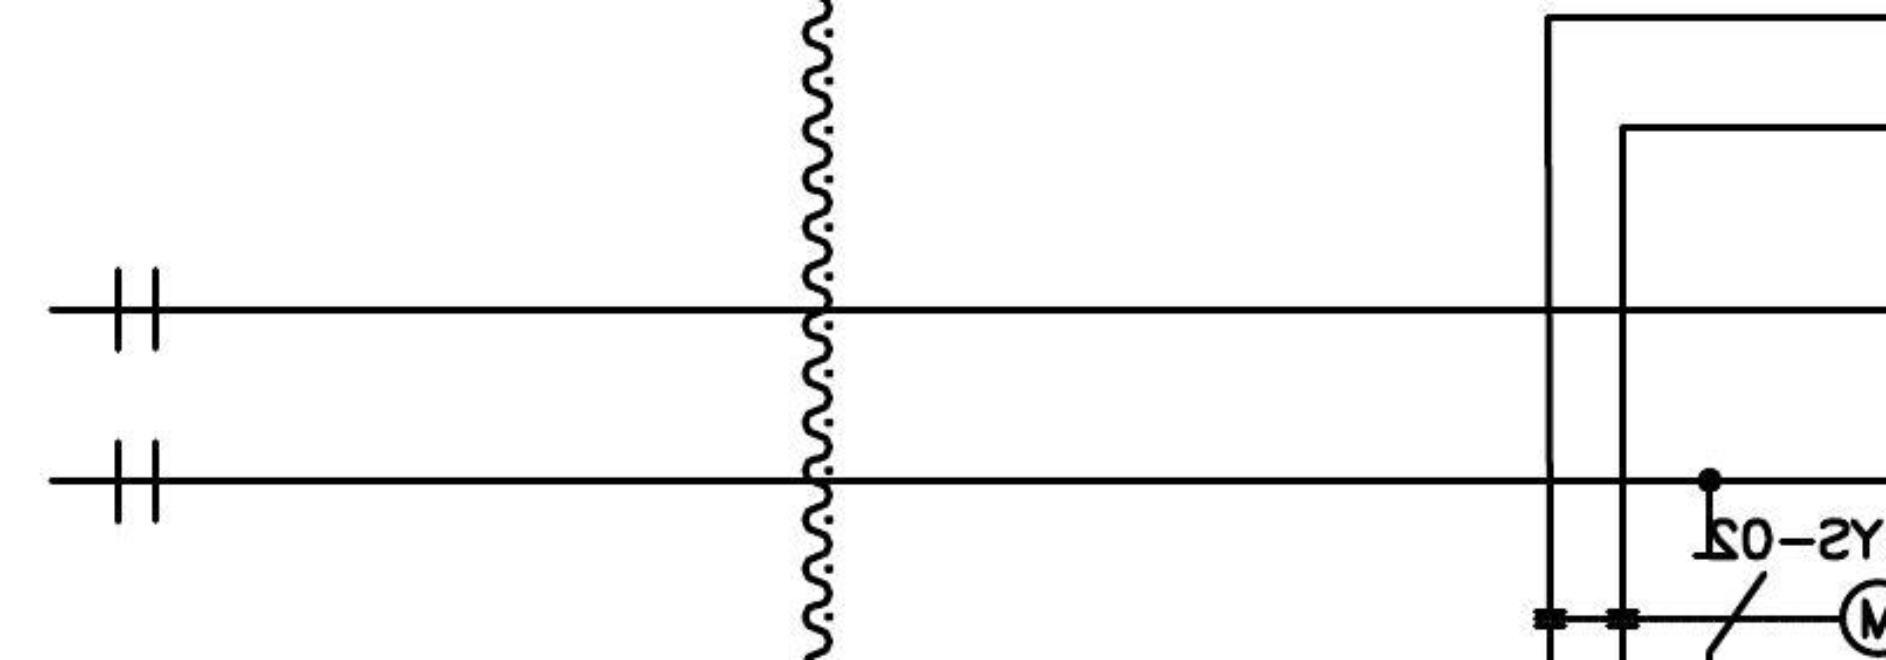115_buffer: (114, 266, 159, 353), (114, 438, 159, 525)
